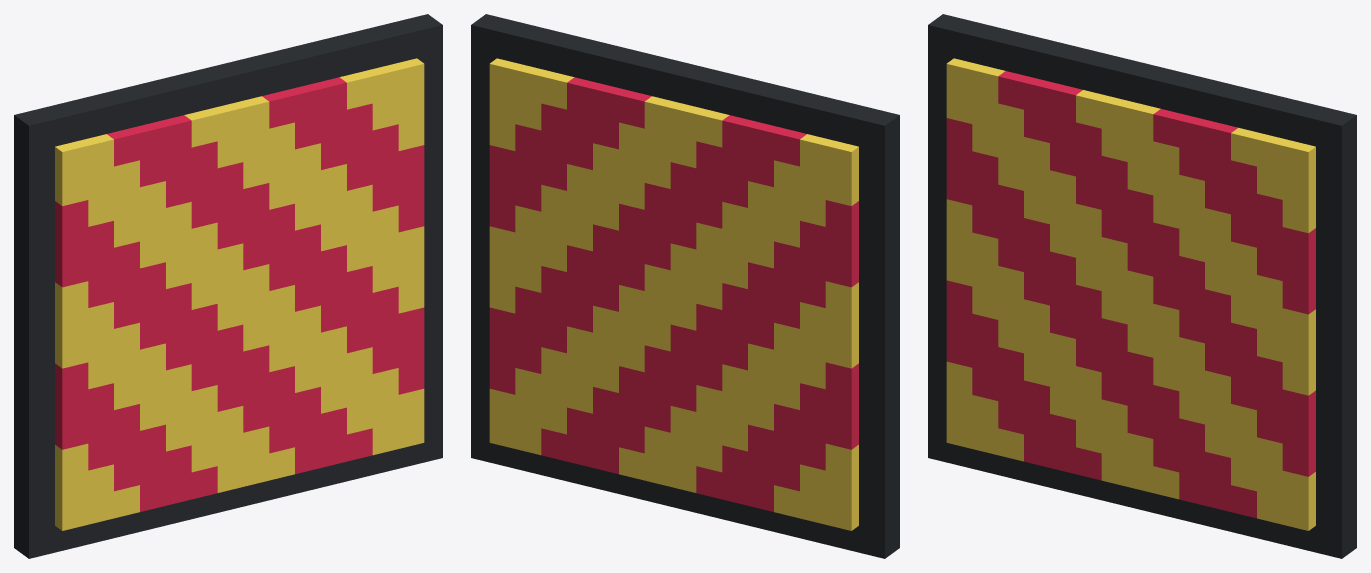
The model's file is Boostpad.fbx.
3 views of the same model, side by side, from view 1: azimuth 30°, elevation 25°; view 2: azimuth 150°, elevation 25°; view 3: azimuth 330°, elevation 25° (orthographic).
Parts seen in each view (by area): view 1: generated; view 2: generated; view 3: generated.
Part boxes in pixels (left/top/right/bottom): generated: left=14, top=14, right=442, bottom=558; generated: left=471, top=14, right=899, bottom=558; generated: left=928, top=14, right=1356, bottom=558.
Bounding box in the file's own units: 160 × 160 × 20.
